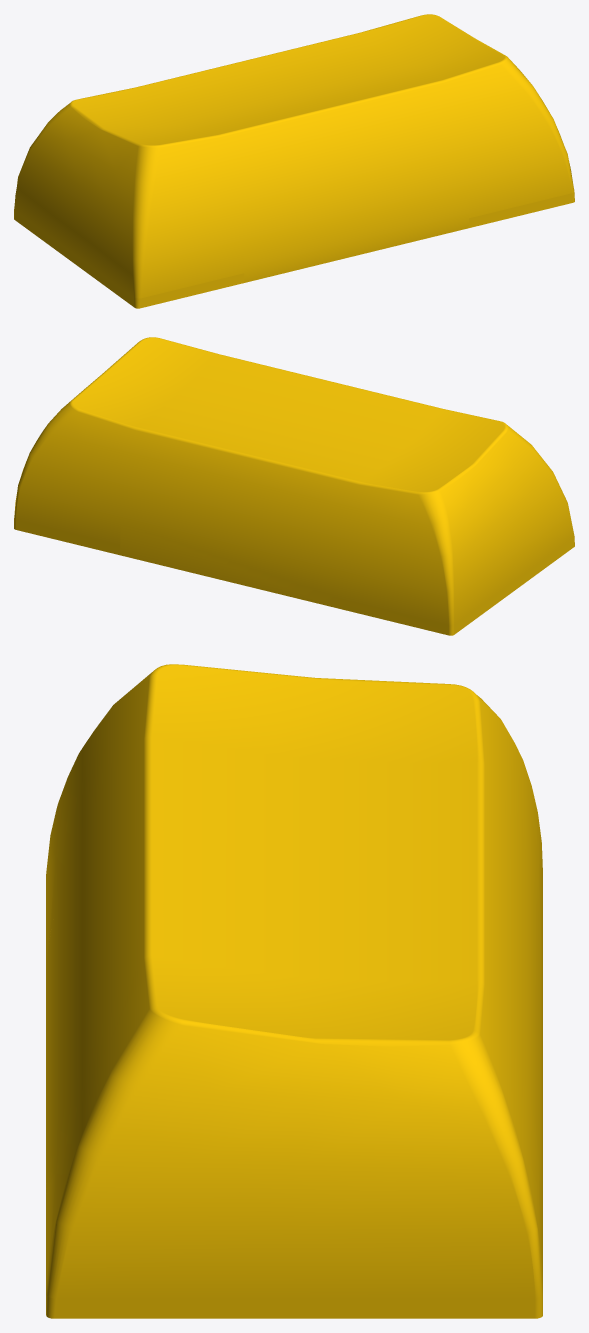
The model's file is KAT_2u_r5.glb.
3 renders of one model, top to bottom at view 1: azimuth 30°, elevation 25°; view 2: azimuth 150°, elevation 25°; view 3: azimuth 270°, elevation 25°, orthographic. The views are drawn at different scales.
Visible parts, largest first — view 1: Object.101; view 2: Object.101; view 3: Object.101.
Part boxes in pixels (left/top/right/bottom): Object.101: left=14, top=14, right=574, bottom=308; Object.101: left=14, top=337, right=574, bottom=635; Object.101: left=46, top=664, right=542, bottom=1318.
Size of the model in its own units: 37.2 by 10.68 by 18.21.
